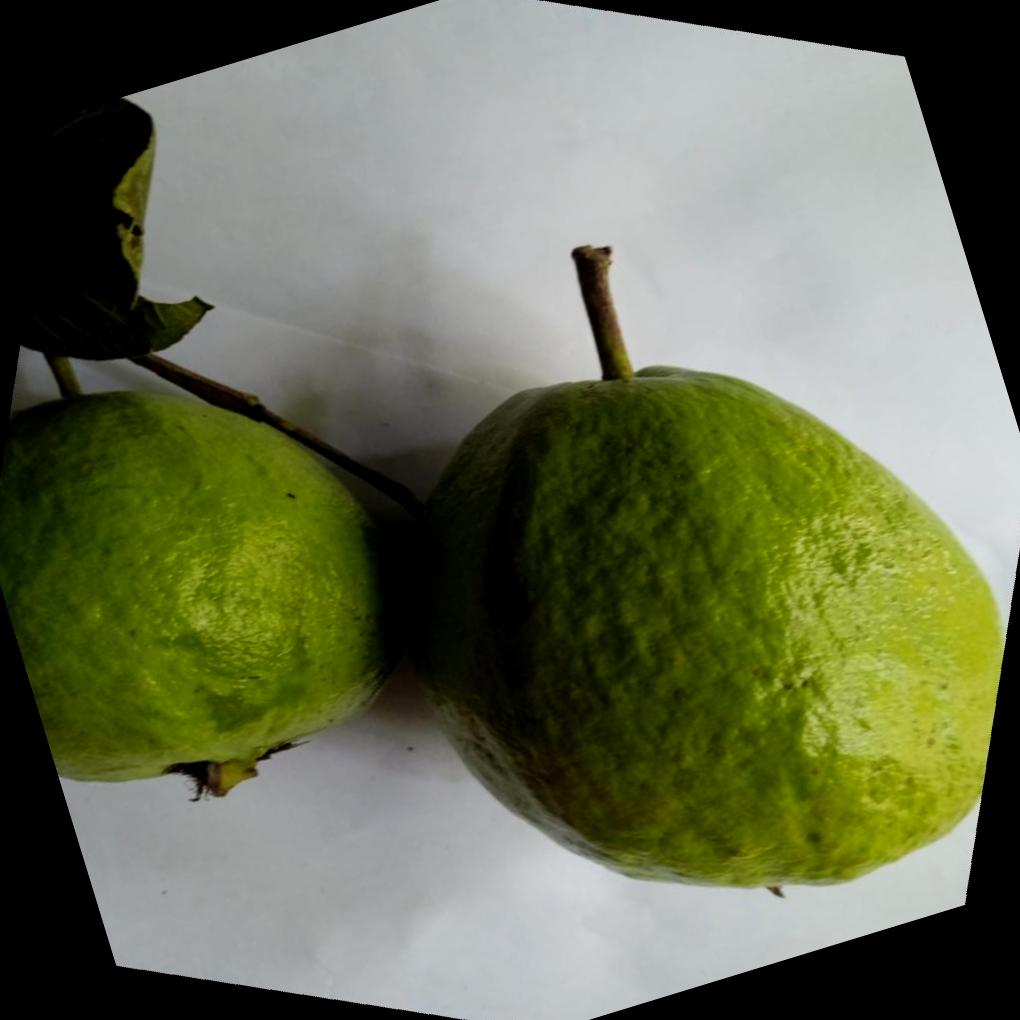FreshGuava: (0, 244, 1007, 891)
